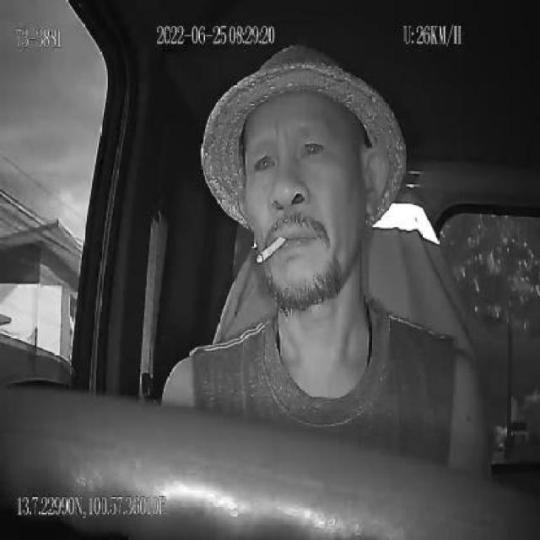smoking: (256, 233, 287, 264)
